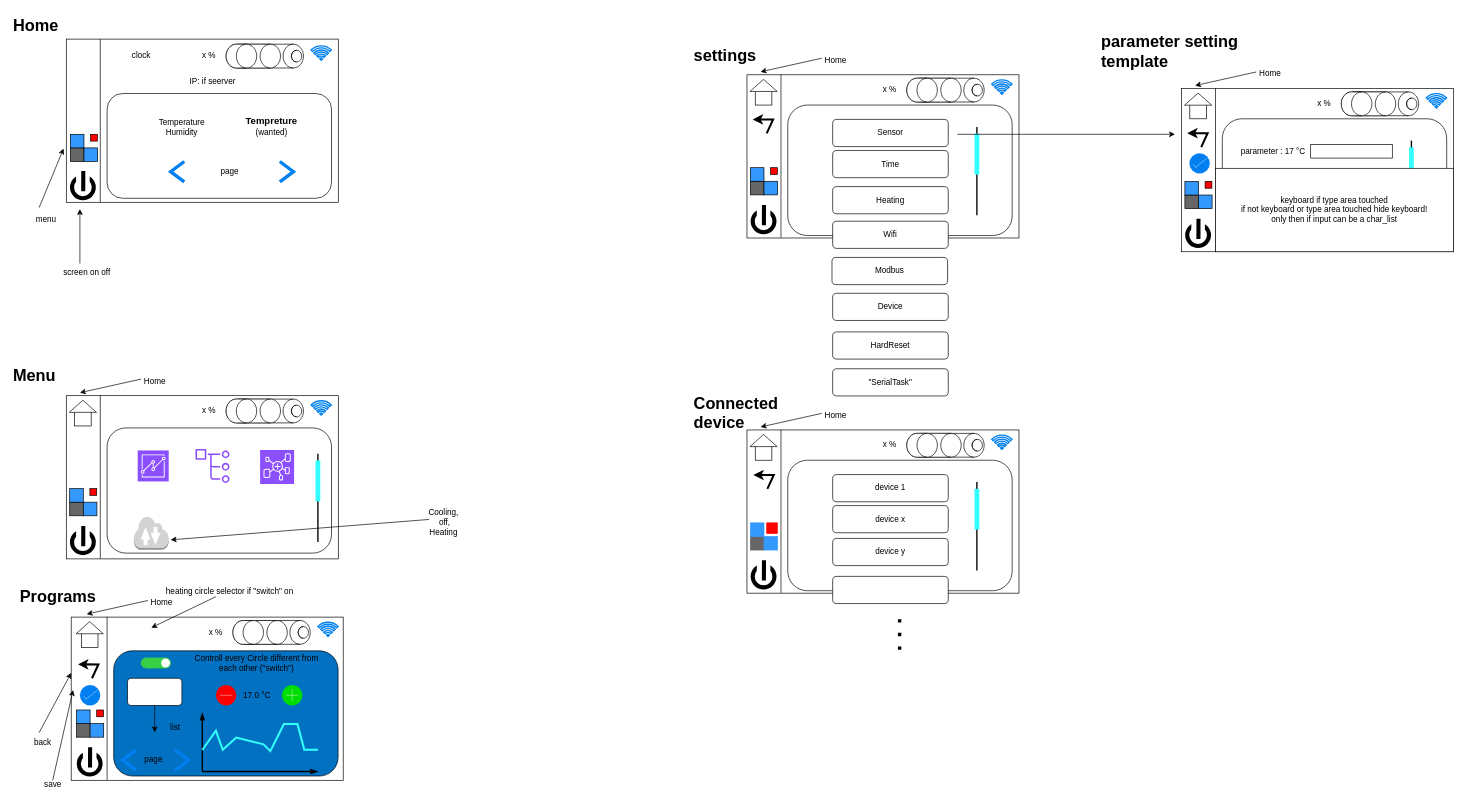
This 1465x806 diagram has some shape labels left out. Here are the shapes that lost their labels. From the top down, the box of each, then its label:
(1310, 144, 1392, 158): type
(832, 576, 948, 604): device z
(127, 678, 182, 706): Hour
